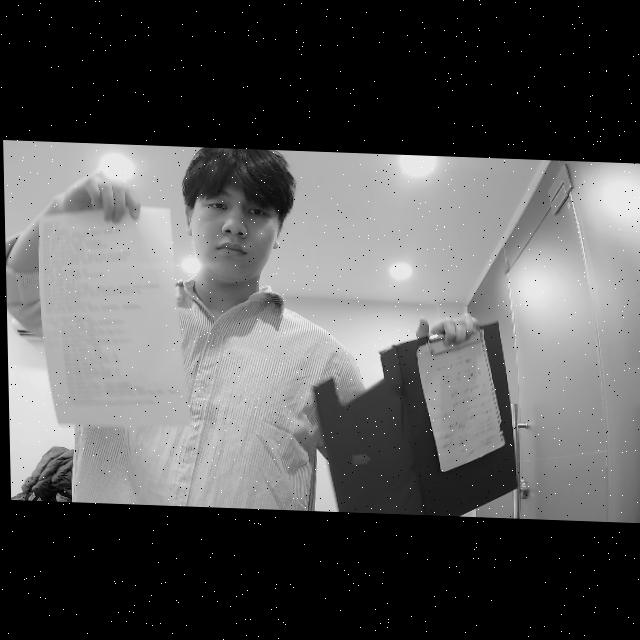document: (39, 208, 190, 428), (414, 331, 507, 472)
face: (186, 147, 295, 282)
